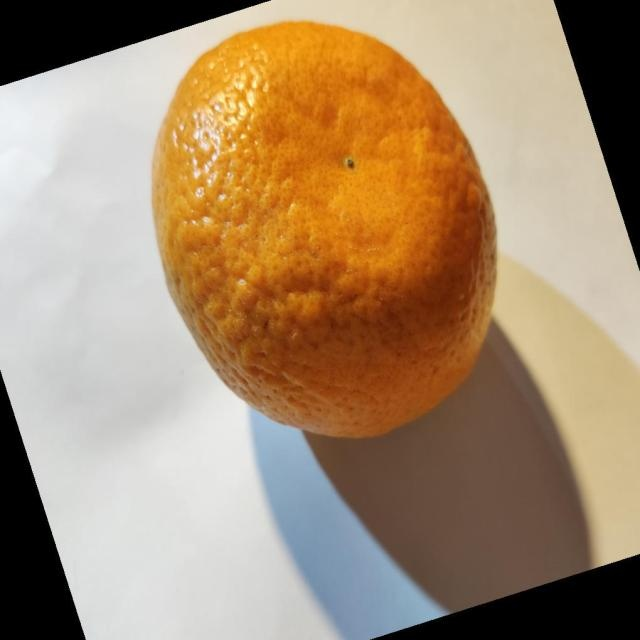agrume: (149, 19, 499, 440)
